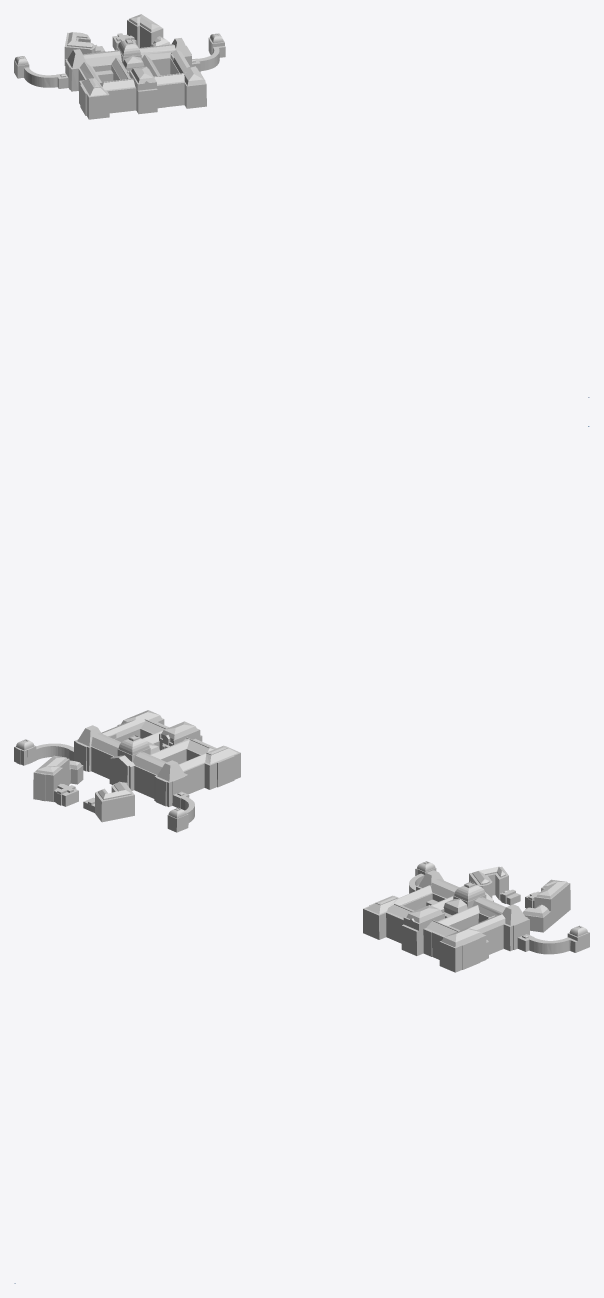
The model's file is swarm_map.glb.
3 renders of one model, top to bottom at view 1: azimuth 30°, elevation 25°; view 2: azimuth 150°, elevation 25°; view 3: azimuth 330°, elevation 25°, orthographic. The views are drawn at different scales.
Parts seen in each view (by area): view 1: palais_def; view 2: palais_def; view 3: palais_def.
Boxes of the visible parts, left/top/right/bottom form: palais_def: left=14, top=14, right=225, bottom=119; palais_def: left=14, top=710, right=240, bottom=832; palais_def: left=363, top=861, right=589, bottom=972.
Bounding box in the file's own units: 11262 × 2437 × 51968.
5 materials, 1 textured.
